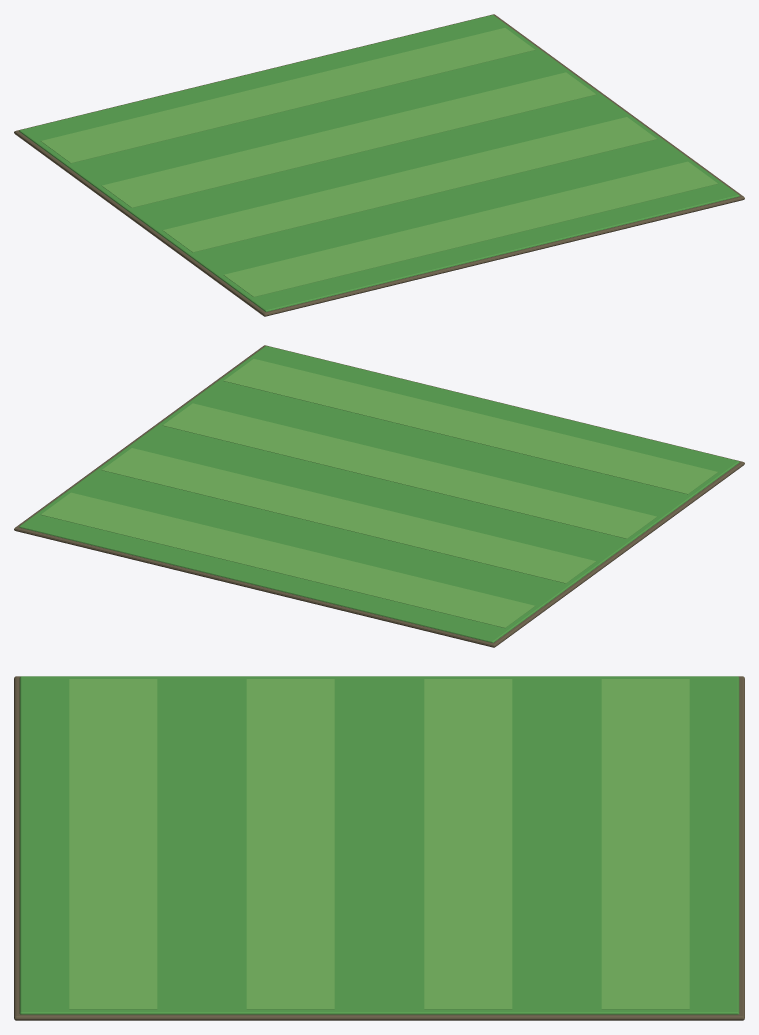
Rendered from grass-plot.glb.
The picture shows the model from 3 angles, top to bottom: view 1: azimuth 30°, elevation 25°; view 2: azimuth 150°, elevation 25°; view 3: azimuth 270°, elevation 25°; orthographic projection. The views are drawn at different scales.
Parts seen in each view (by area): view 1: grass surface, subtle mowing stripe.001, subtle mowing stripe.002, subtle mowing stripe, subtle mowing stripe.003, plot soil; view 2: grass surface, subtle mowing stripe.001, subtle mowing stripe.002, subtle mowing stripe, subtle mowing stripe.003, plot soil; view 3: grass surface, subtle mowing stripe, subtle mowing stripe.001, subtle mowing stripe.002, subtle mowing stripe.003, plot soil.
Part boxes in pixels (box(x1,y1,x2,y2)): grass surface: box(19, 15, 739, 311); subtle mowing stripe.001: box(163, 117, 656, 252); subtle mowing stripe.002: box(102, 72, 595, 207); subtle mowing stripe: box(224, 161, 717, 296); subtle mowing stripe.003: box(41, 28, 534, 163); plot soil: box(14, 14, 744, 316); grass surface: box(19, 346, 739, 642); subtle mowing stripe.001: box(163, 403, 656, 538); subtle mowing stripe.002: box(102, 448, 595, 583); subtle mowing stripe: box(224, 359, 717, 494); subtle mowing stripe.003: box(41, 492, 534, 627); plot soil: box(14, 345, 744, 647); grass surface: box(19, 676, 739, 1014); subtle mowing stripe: box(69, 679, 157, 1009); subtle mowing stripe.001: box(246, 679, 334, 1009); subtle mowing stripe.002: box(424, 679, 512, 1009); subtle mowing stripe.003: box(601, 679, 689, 1009); plot soil: box(14, 676, 744, 1020).
Bounding box in the file's own units: 11.4 × 0.107 × 10.3.
